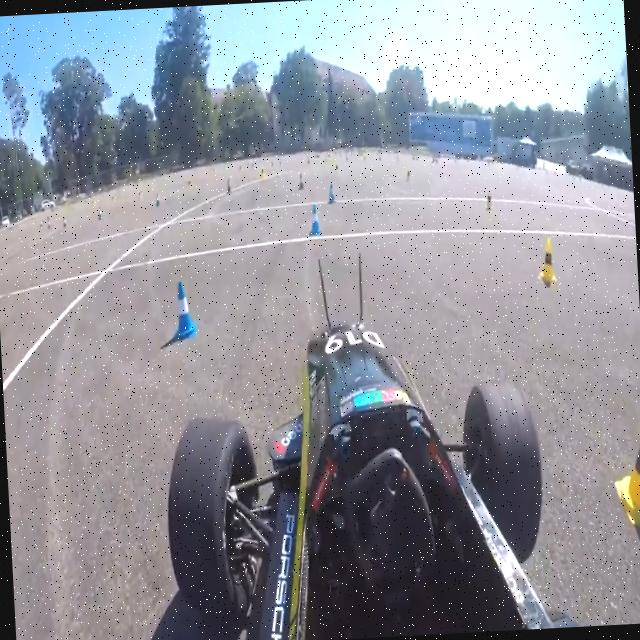blue_cone: (166, 288, 196, 338), (306, 205, 325, 245), (328, 182, 343, 205)
yellow_cone: (611, 405, 640, 517), (538, 236, 555, 297), (486, 190, 494, 212)
